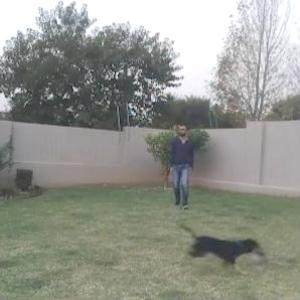follow: (167, 120, 194, 213)
